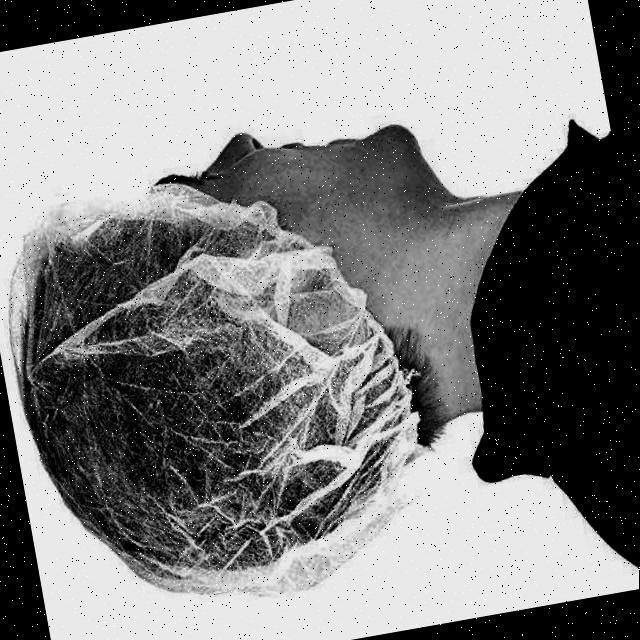gloves: (0, 178, 454, 572)
no_hairnet: (209, 137, 417, 223)
